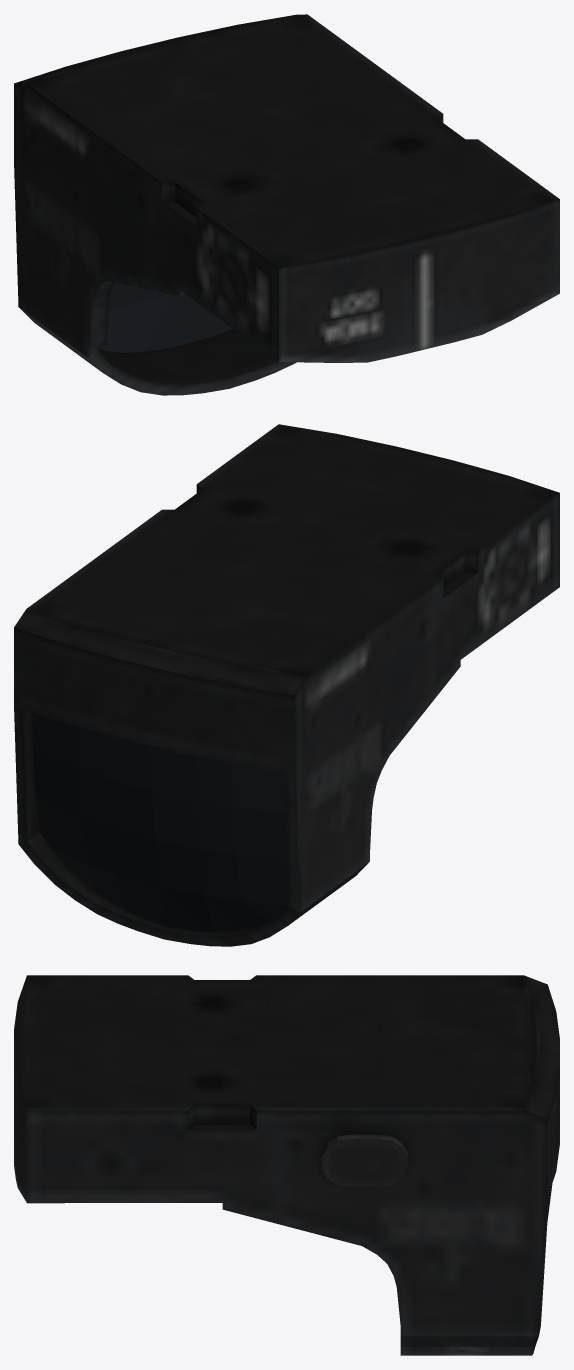
3 views of the same model, one above another, from view 1: azimuth 30°, elevation 25°; view 2: azimuth 150°, elevation 25°; view 3: azimuth 270°, elevation 25° (orthographic).
Visible parts, largest first — view 1: TW_577d141e24597739c5255e01_PZ_Import; view 2: TW_577d141e24597739c5255e01_PZ_Import; view 3: TW_577d141e24597739c5255e01_PZ_Import.
Part boxes in pixels (x1,y1,x2,y2): TW_577d141e24597739c5255e01_PZ_Import: [14, 14, 559, 395]; TW_577d141e24597739c5255e01_PZ_Import: [14, 424, 559, 946]; TW_577d141e24597739c5255e01_PZ_Import: [14, 975, 559, 1355].
Bounding box in the file's own units: 0.0142 × 0.0235 × 0.0137.
1 material, 1 textured.
